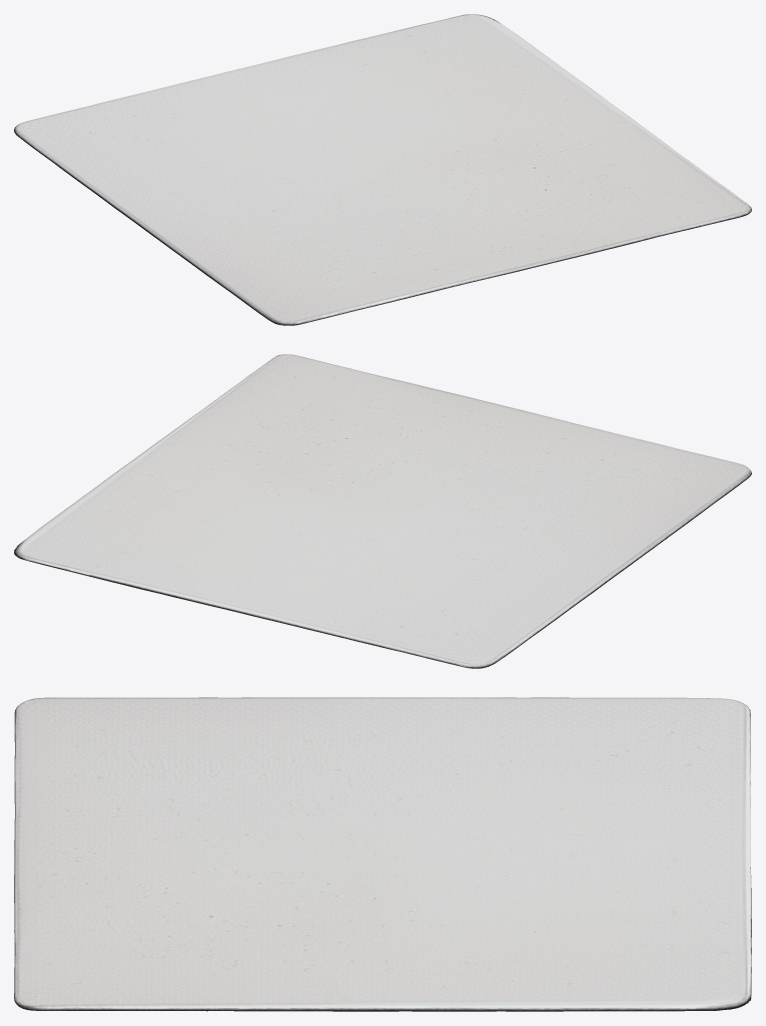
3 renders of one model, top to bottom at view 1: azimuth 30°, elevation 25°; view 2: azimuth 150°, elevation 25°; view 3: azimuth 270°, elevation 25°, orthographic. The views are drawn at different scales.
Visible parts, largest first — view 1: world; view 2: world; view 3: world.
Boxes of the visible parts, left/top/right/bottom form: world: left=14, top=14, right=751, bottom=325; world: left=14, top=354, right=751, bottom=668; world: left=14, top=697, right=751, bottom=1011.
Bounding box in the file's own units: 0.9981 × 0.00833 × 0.998.
Materials: 1 (1 with a texture image).
